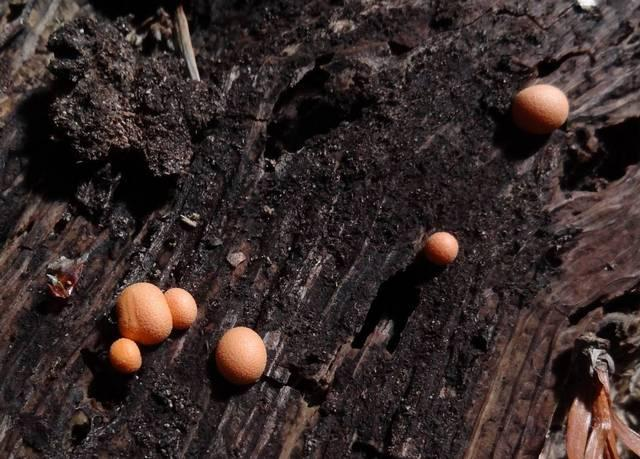Non-edible Mushroom: (115, 280, 173, 345), (214, 325, 267, 385), (510, 82, 569, 135), (163, 286, 198, 329), (107, 336, 142, 374), (423, 230, 459, 265)
